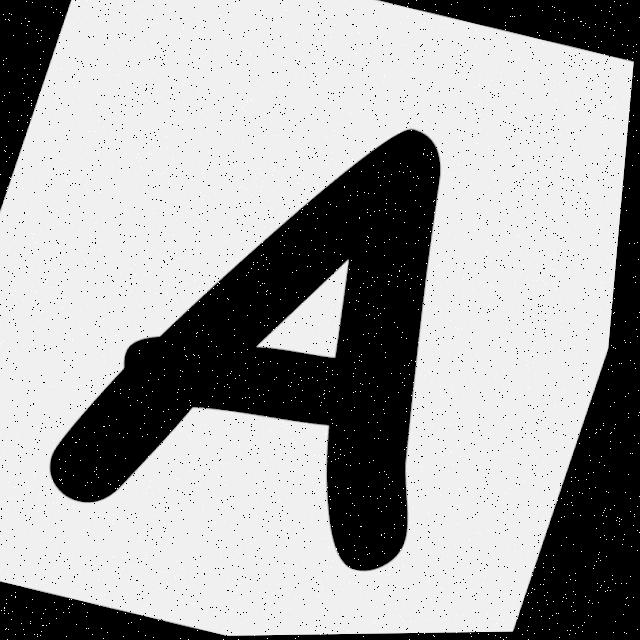A: (58, 131, 443, 572)
